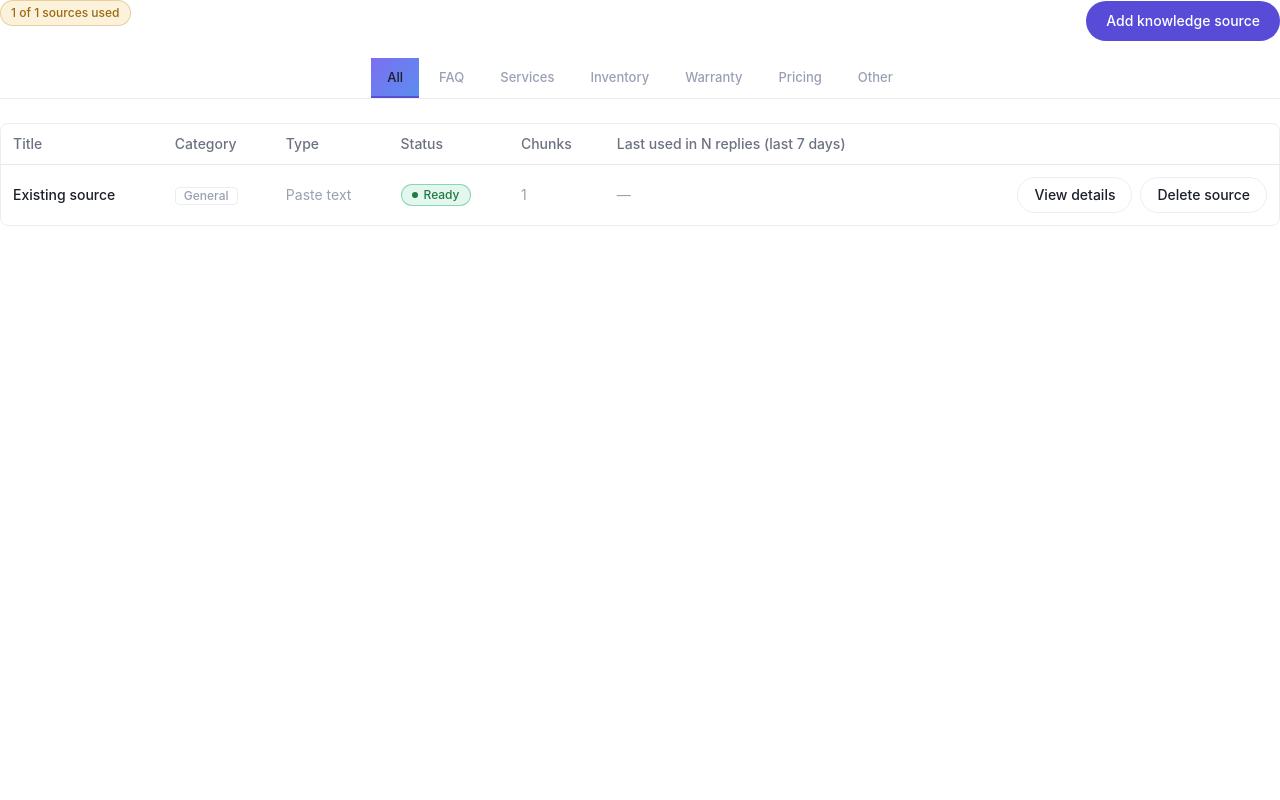
Test: SourceList — KAN-829 sub-cohort 3 › Test 9 — Add CTA at tier limit opens UpgradePromptDialog with count-at-limit (NOT Add Source)
The image size is (1280, 800).
expect the text "1 of 1 sources used" is shown: met, box top-left (0, 0), bottom-right (130, 26)
# Click Add source — should NOT open Add Source dialog
Click the button "Add knowledge source".
click(1183, 21)  # box top-left (1086, 1), bottom-right (1279, 41)
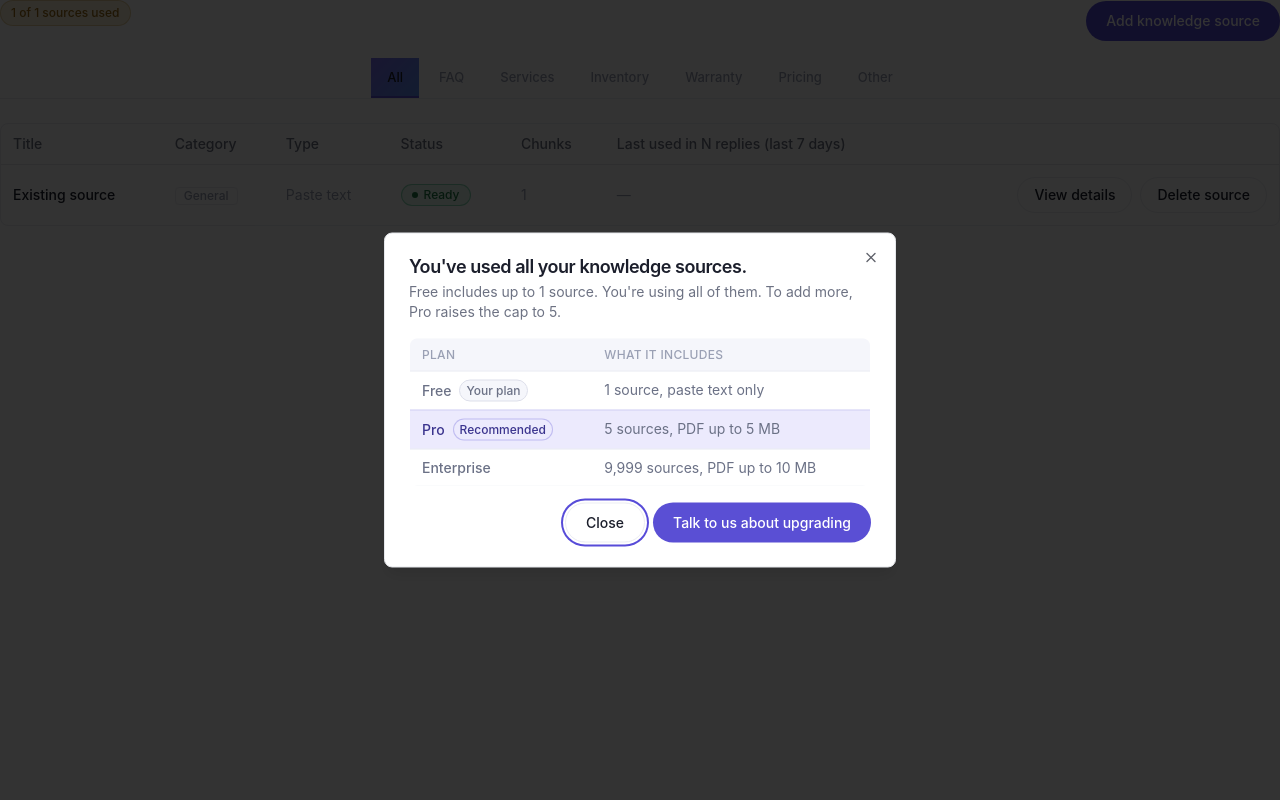
expect the heading "You've used all your knowledge sources." is shown: met, box top-left (409, 256), bottom-right (747, 276)
